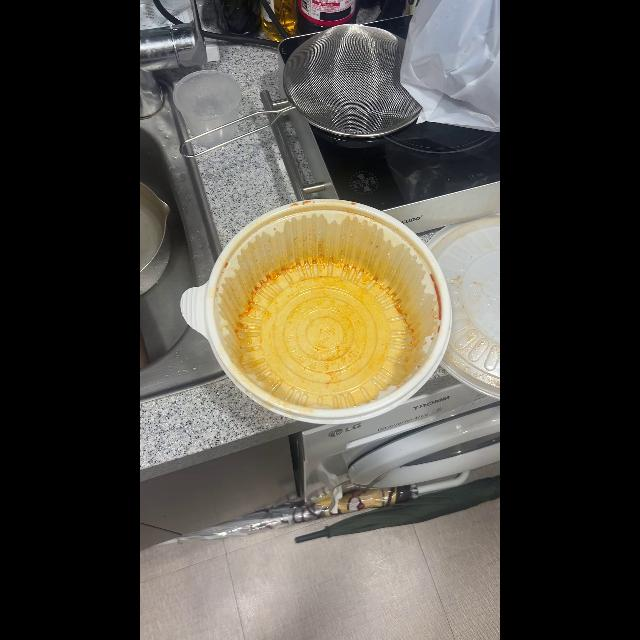dirty: (210, 202, 446, 412)
